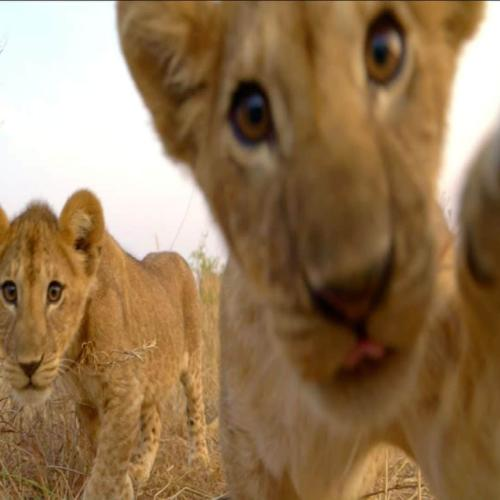lion-endangered: (109, 1, 500, 500), (0, 183, 208, 500)
